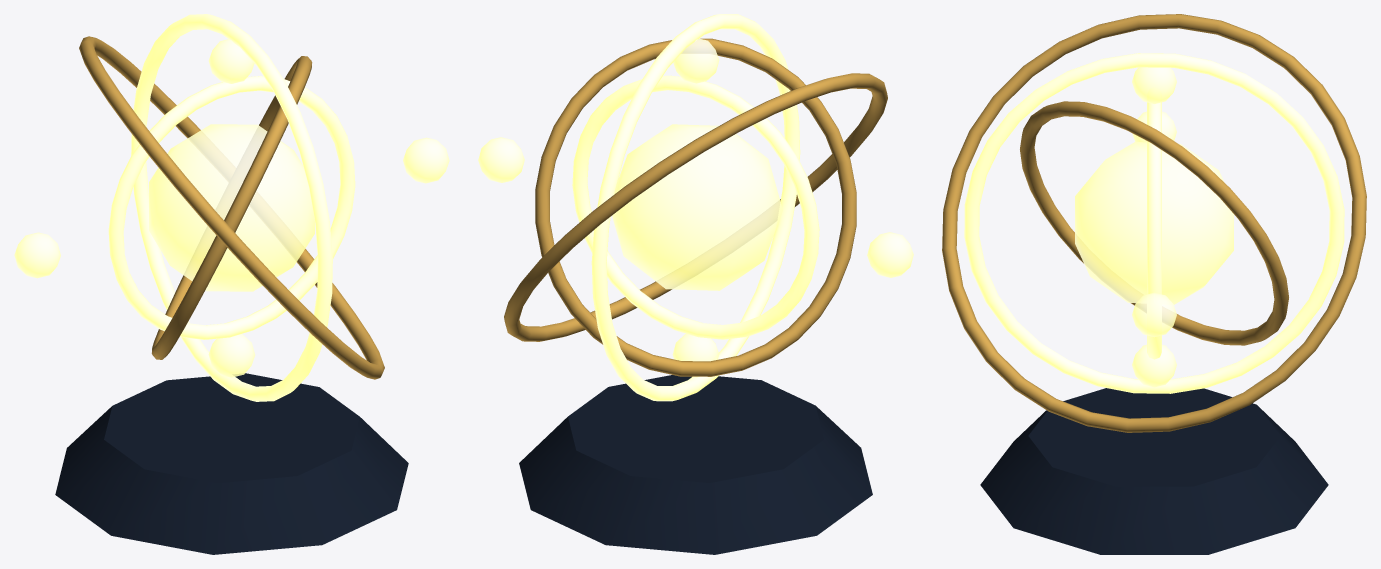
File: euler.glb
3 renders of one model, left to right at view 1: azimuth 30°, elevation 25°; view 2: azimuth 150°, elevation 25°; view 3: azimuth 270°, elevation 25°, orthographic. The views are drawn at different scales.
Visible parts, largest first — view 1: body; view 2: body; view 3: body.
Boxes of the visible parts, x1,y1,x2,y2 form: body: (14,14,449,554); body: (478,14,913,554); body: (942,14,1366,554).
Bounding box in the file's own units: 1.59 × 1.59 × 1.41.
